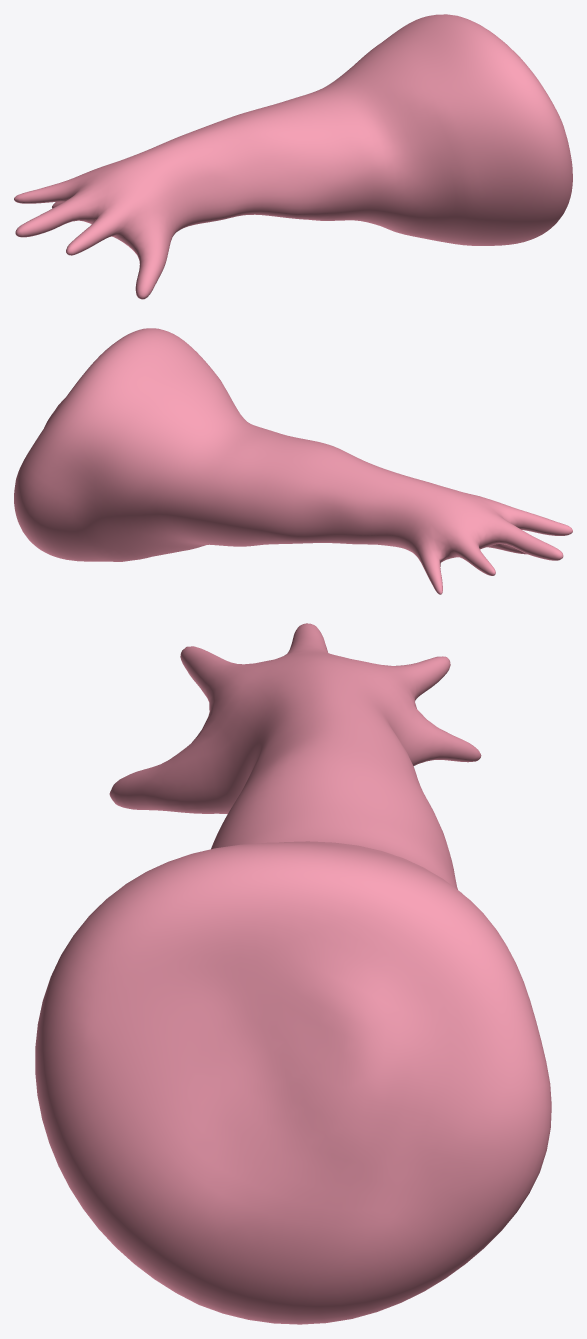
The model's file is Arm_R_Human.fbx.
3 views of the same model, one above another, from view 1: azimuth 30°, elevation 25°; view 2: azimuth 150°, elevation 25°; view 3: azimuth 270°, elevation 25° (orthographic). The views are drawn at different scales.
Visible parts, largest first — view 1: ObjLArm.002; view 2: ObjLArm.002; view 3: ObjLArm.002.
Part boxes in pixels (left/top/right/bottom): ObjLArm.002: left=14, top=14, right=572, bottom=299; ObjLArm.002: left=14, top=328, right=572, bottom=594; ObjLArm.002: left=35, top=623, right=551, bottom=1324.
Size of the model in its own units: 174 by 69.18 by 75.53.
